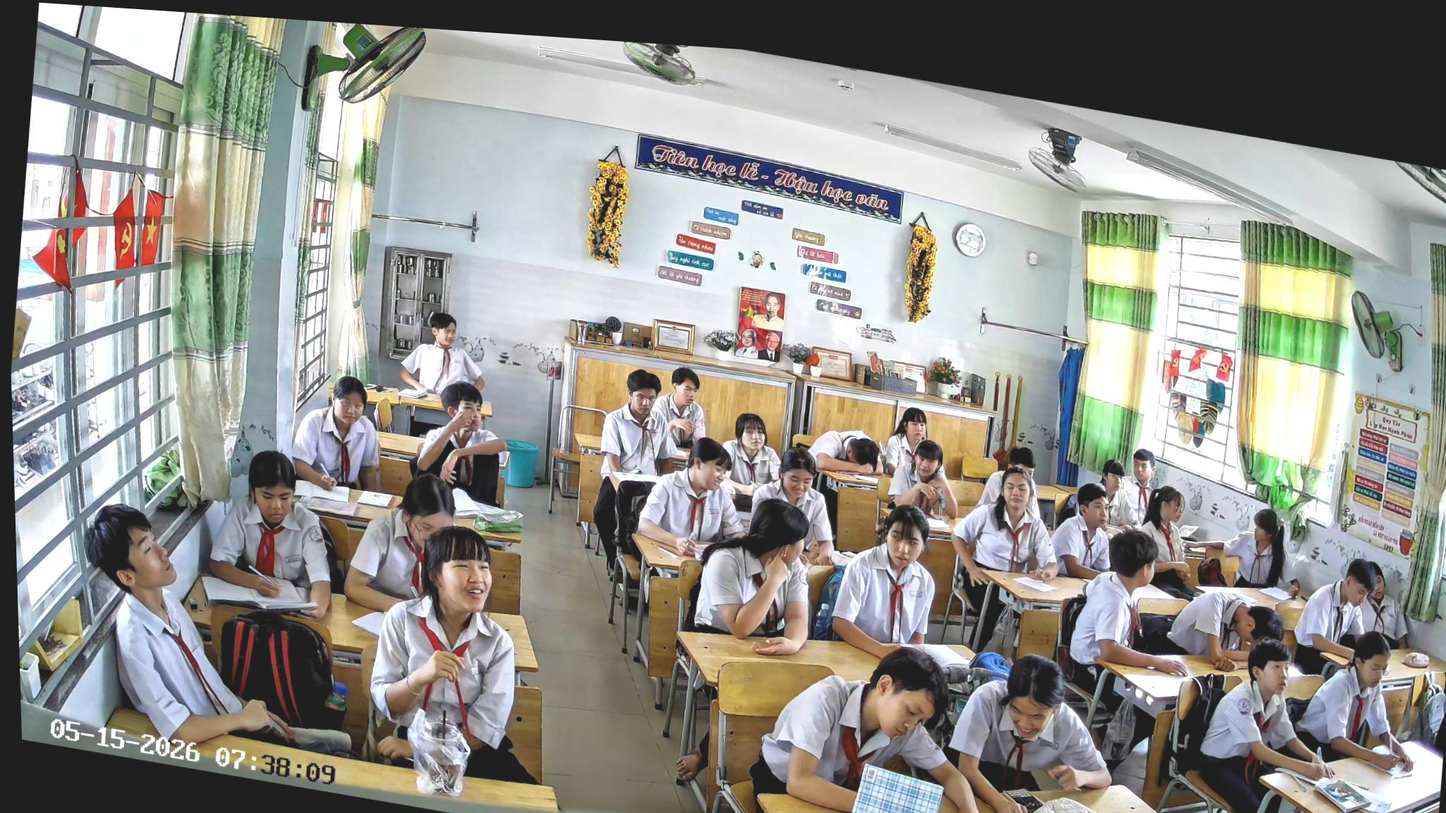person: (63, 496, 378, 774), (355, 510, 567, 792), (740, 618, 1018, 813), (1055, 517, 1208, 773), (931, 638, 1127, 813), (1178, 625, 1350, 813), (190, 438, 348, 626), (935, 454, 1072, 664), (686, 484, 826, 664), (582, 361, 692, 564), (1288, 620, 1427, 779), (822, 492, 947, 667), (337, 459, 464, 625), (631, 426, 758, 569), (407, 373, 517, 510), (283, 365, 394, 500), (1151, 576, 1289, 681), (1184, 495, 1311, 603), (1286, 547, 1384, 686), (743, 439, 846, 569), (796, 420, 893, 557), (395, 305, 493, 402), (1044, 476, 1124, 586), (1129, 481, 1201, 599), (1344, 556, 1421, 653), (884, 433, 966, 524), (715, 407, 789, 503), (646, 361, 715, 454), (971, 438, 1042, 525), (878, 402, 945, 488), (1094, 457, 1150, 533), (1114, 444, 1162, 524)
